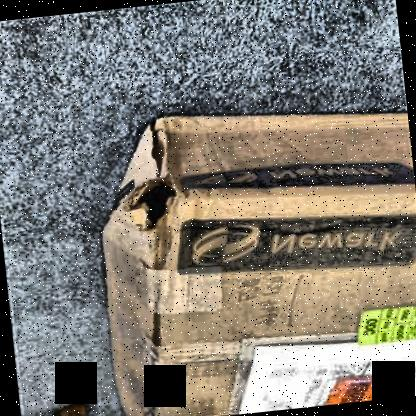defect parcel: (79, 82, 225, 261)
